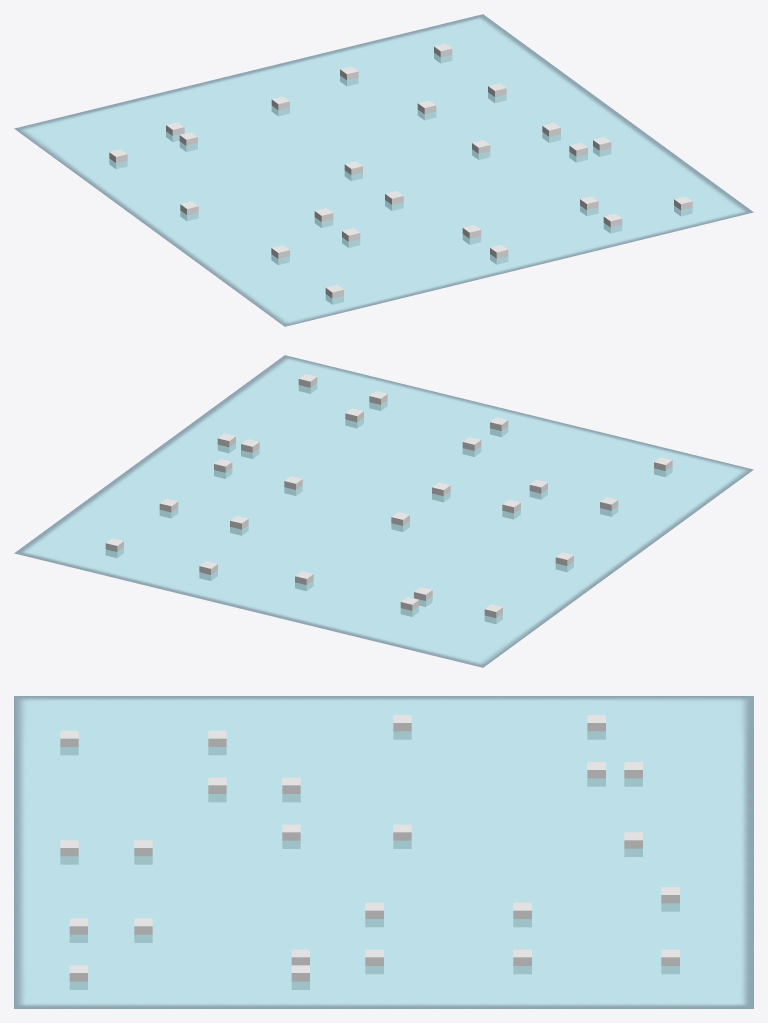
The picture shows the model from 3 angles, top to bottom: view 1: azimuth 30°, elevation 25°; view 2: azimuth 150°, elevation 25°; view 3: azimuth 270°, elevation 25°; orthographic projection. The views are drawn at different scales.
Parts seen in each view (by area): view 1: Background1; view 2: Background1; view 3: Background1.
Boxes of the visible parts, <box> form: Background1: <box>14,14,753,326</box>; Background1: <box>14,355,753,667</box>; Background1: <box>14,696,753,1008</box>.
Size of what is drawn, in the model's own units: 40 by 1 by 40.
